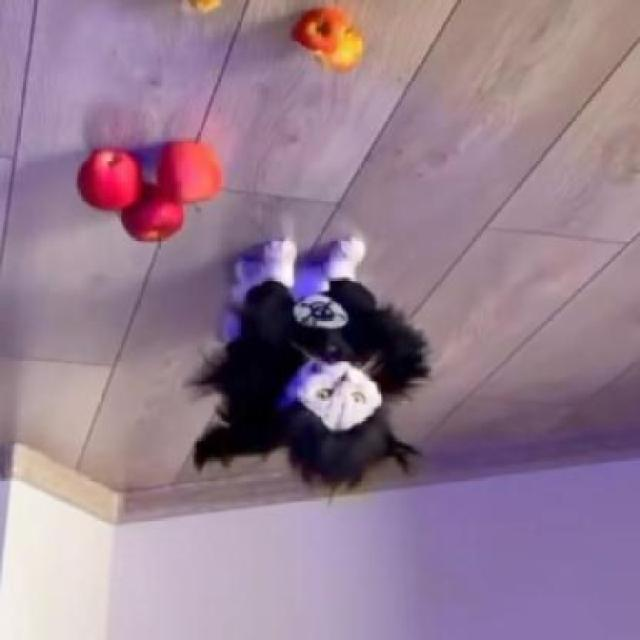cat: (232, 245, 391, 437)
